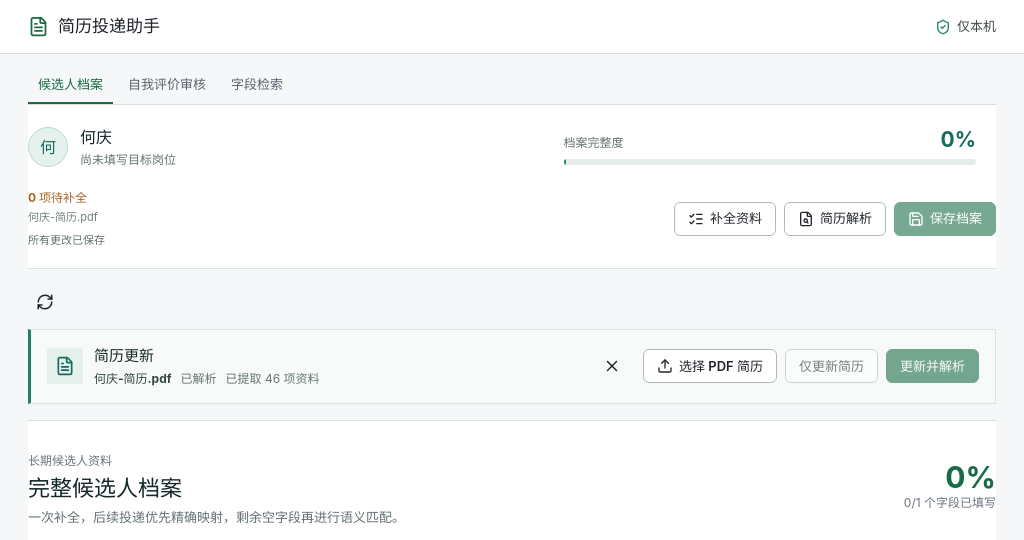
it: global profile summary › loads the latest resume and opens a single global parser
The image size is (1024, 540).
Expected: the text "何庆-简历.pdf" is shown 2 times, [28,210,98,224]; [94,370,172,388]
Expected: the number of buttons "简历解析" is 1, [784,202,886,236]
Click the button named "收起简历更新" at (612, 366), box [595,349,629,383]
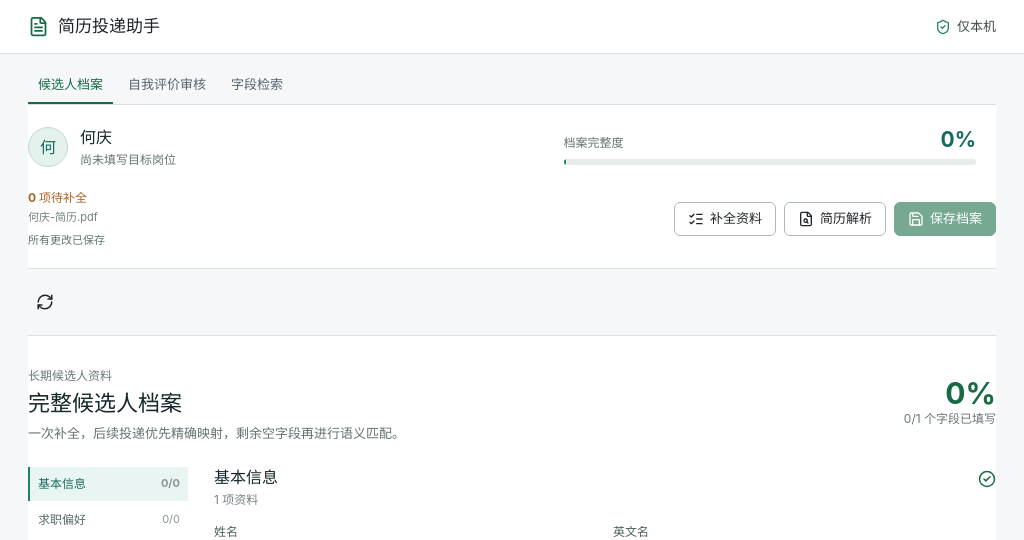
Now the heading "简历更新" is gone
Click the button "简历解析" at (835, 218), box [784,202,886,236]
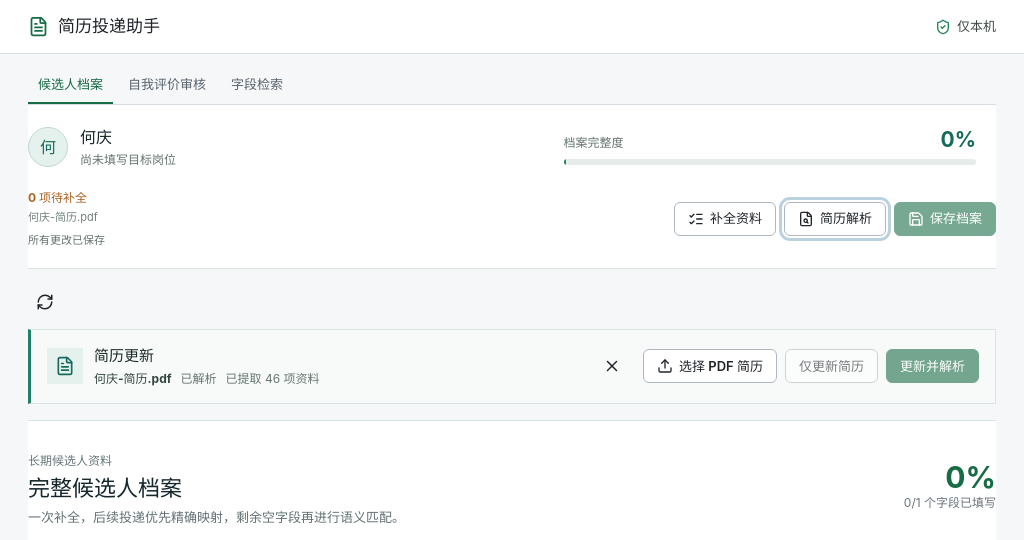
Now the heading "简历更新" is shown, box [94,346,154,365]
